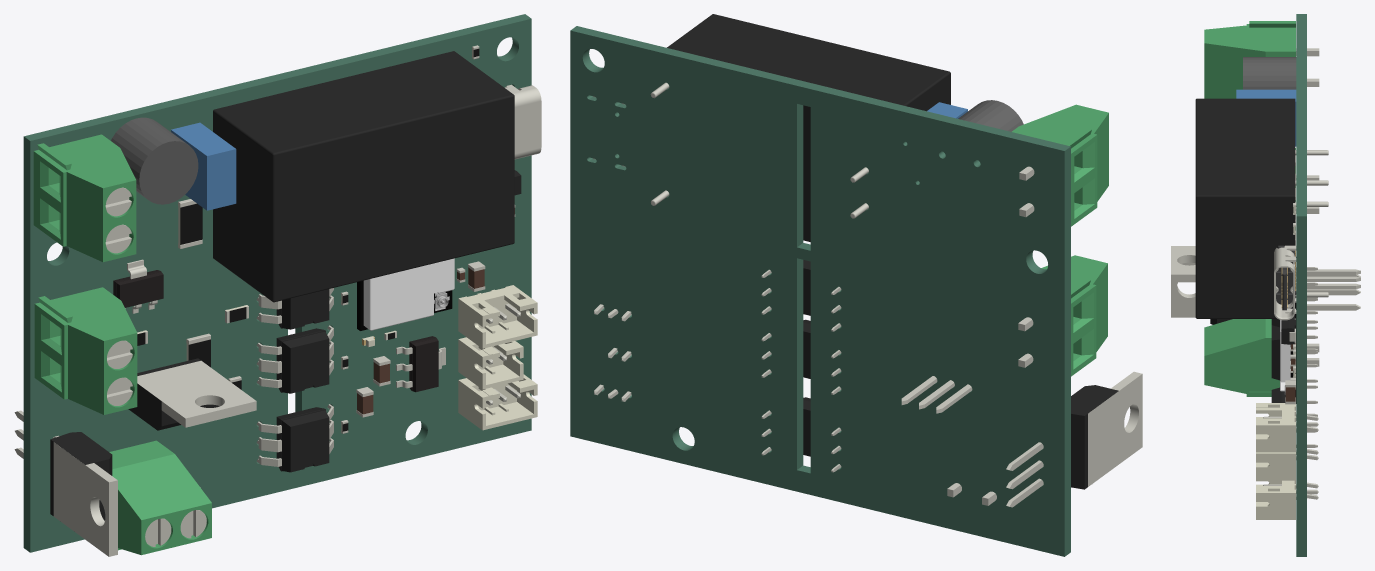
Rendered from board.glb.
3 views of the same model, side by side, from view 1: azimuth 30°, elevation 25°; view 2: azimuth 150°, elevation 25°; view 3: azimuth 270°, elevation 25° (orthographic). The views are drawn at different scales.
Parts seen in each view (by area): view 1: =>[0:1:1:34], =>[0:1:1:13]_4f4cb8, =>[0:1:1:23]_2_e7a287, =>[0:1:1:23]_e276d9, =>[0:1:1:23]_1_66b2c9, =>[0:1:1:27]_1_6ab73e, F1, =>[0:1:1:27]_ac6eb6, =>[0:1:1:25]_e9371a, =>[0:1:1:11]_1_3316f2, RV1, =>[0:1:1:11]_229afa (+15 smaller); view 2: =>[0:1:1:34], =>[0:1:1:13]_4f4cb8, =>[0:1:1:27]_1_6ab73e, =>[0:1:1:23]_e276d9, =>[0:1:1:23]_2_e7a287, =>[0:1:1:27]_1_d1367f, F1, =>[0:1:1:27]_ac6eb6; view 3: =>[0:1:1:13]_4f4cb8, =>[0:1:1:34], =>[0:1:1:23]_1_66b2c9, =>[0:1:1:23]_e276d9, =>[0:1:1:11]_1_3316f2, =>[0:1:1:27]_ac6eb6, F1, =>[0:1:1:11]_229afa, =>[0:1:1:27]_1_6ab73e, =>[0:1:1:31]_88c306, =>[0:1:1:3]_41837b, =>[0:1:1:3]_ead9b2 (+5 smaller).
Boxes of the visible parts, x1,y1,x2,y2 form: =>[0:1:1:34]: (23,14,531,552); =>[0:1:1:13]_4f4cb8: (213,51,514,302); =>[0:1:1:23]_2_e7a287: (34,287,137,414); =>[0:1:1:23]_e276d9: (33,134,136,262); =>[0:1:1:23]_1_66b2c9: (109,440,211,555); =>[0:1:1:27]_1_6ab73e: (14,410,117,556); F1: (111,117,198,204); =>[0:1:1:27]_ac6eb6: (137,360,256,427); =>[0:1:1:25]_e9371a: (363,258,454,330); =>[0:1:1:11]_1_3316f2: (458,285,537,348); RV1: (171,122,236,210); =>[0:1:1:11]_229afa: (458,374,537,430); =>[0:1:1:34]: (570,26,1070,556); =>[0:1:1:13]_4f4cb8: (667,14,950,241); =>[0:1:1:27]_1_6ab73e: (1006,371,1142,507); =>[0:1:1:23]_e276d9: (1012,104,1108,226); =>[0:1:1:23]_2_e7a287: (1041,255,1107,376); =>[0:1:1:27]_1_d1367f: (1071,385,1118,489); F1: (958,100,1023,131); =>[0:1:1:27]_ac6eb6: (901,376,972,413); =>[0:1:1:13]_4f4cb8: (1195,98,1295,318); =>[0:1:1:34]: (1296,14,1306,556); =>[0:1:1:23]_1_66b2c9: (1204,319,1279,396); =>[0:1:1:23]_e276d9: (1204,21,1295,98); =>[0:1:1:11]_1_3316f2: (1256,403,1295,452); =>[0:1:1:27]_ac6eb6: (1171,246,1360,289); F1: (1243,57,1296,89); =>[0:1:1:11]_229afa: (1256,480,1295,519); =>[0:1:1:27]_1_6ab73e: (1171,262,1360,317); =>[0:1:1:31]_88c306: (1256,452,1295,480); =>[0:1:1:3]_41837b: (1274,245,1296,320); =>[0:1:1:3]_ead9b2: (1276,245,1296,310).
Bounding box in the file's own units: 72 × 56.5 × 28.52.
